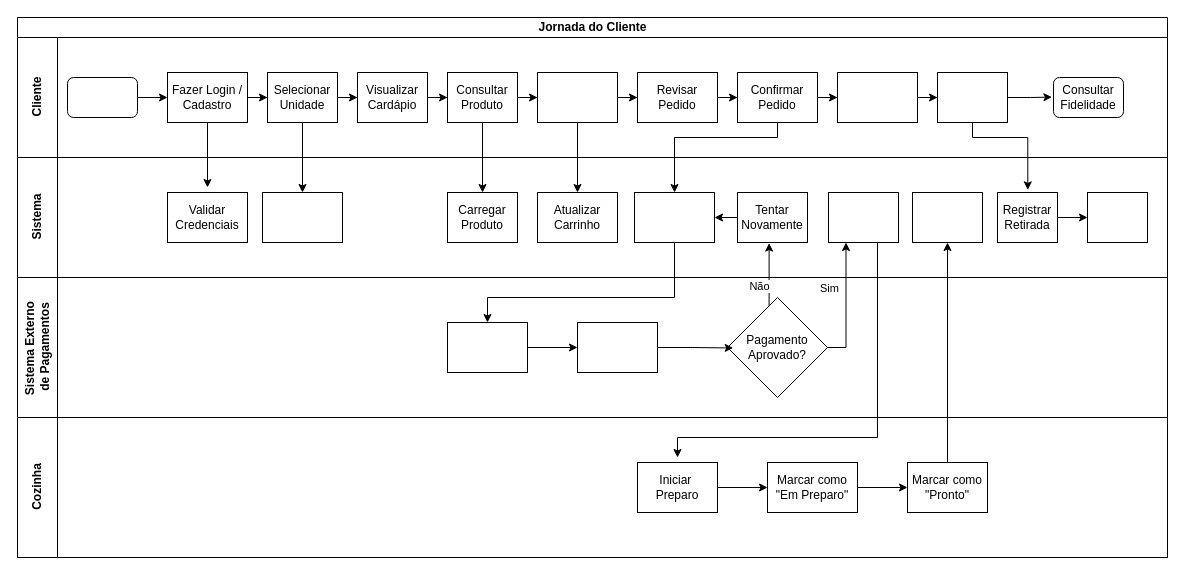
This 1185x575 diagram has some shape labels left out. Here are the shapes that lost their labels. From the top down, the centre of each, then its label:
At (x=102, y=97): "Acessar Sistema".
At (x=577, y=97): "Adicionar ao Carrinho".
At (x=877, y=97): "Acompanhar Pedido".
At (x=972, y=97): "Retirar Pedido".
At (x=302, y=217): "Carregar Carápio".
At (x=674, y=217): "Solicitar Pagamento".
At (x=863, y=217): "Enviar Pedido".
At (x=947, y=217): "Atualizar Status do Pedido".
At (x=1117, y=217): "Finalizar Pedido".
At (x=487, y=347): "Processar Pagamento".
At (x=617, y=347): "Retornar Status".
